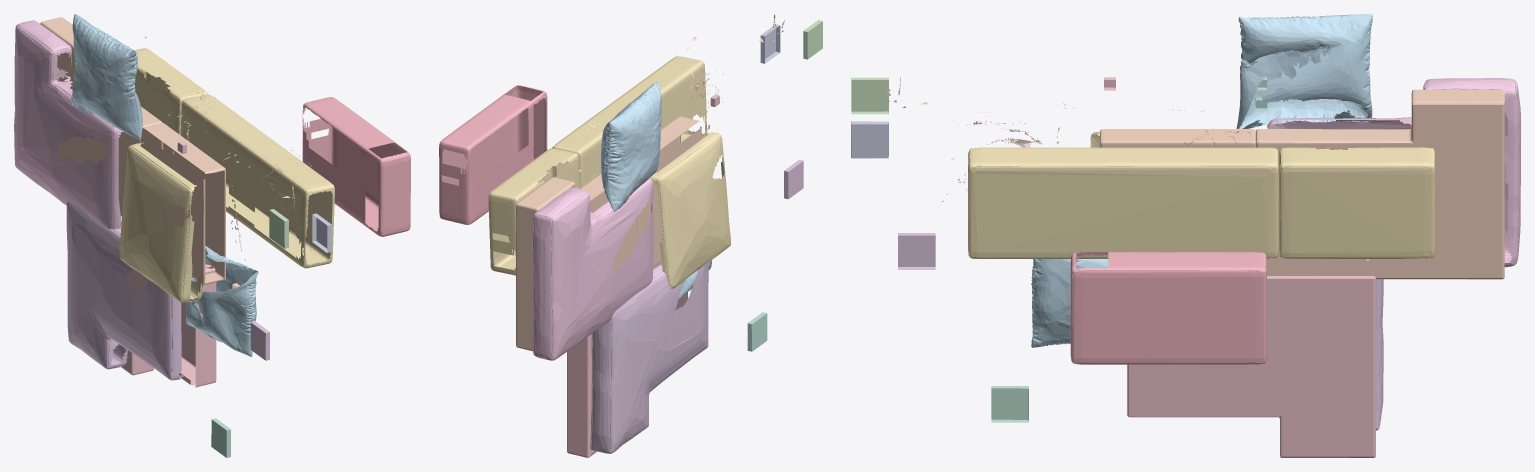
The model's file is view_input_colored.glb.
3 renders of one model, left to right at view 1: azimuth 30°, elevation 25°; view 2: azimuth 150°, elevation 25°; view 3: azimuth 270°, elevation 25°, orthographic. The views are drawn at different scales.
Visible parts, largest first — view 1: world; view 2: world; view 3: world.
Part boxes in pixels (x1,y1,x2,y2): world: (14,14,410,457); world: (439,14,822,457); world: (851,14,1520,457).
Bounding box in the file's own units: 0.5233 × 0.7525 × 1.09.
